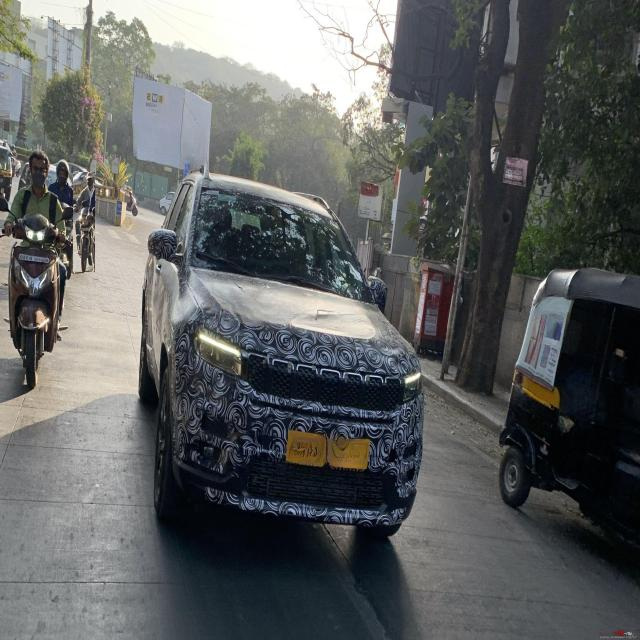autorickshaw: (500, 269, 640, 543)
car: (139, 170, 424, 528)
motorcycle: (2, 151, 74, 388), (73, 172, 94, 272)
